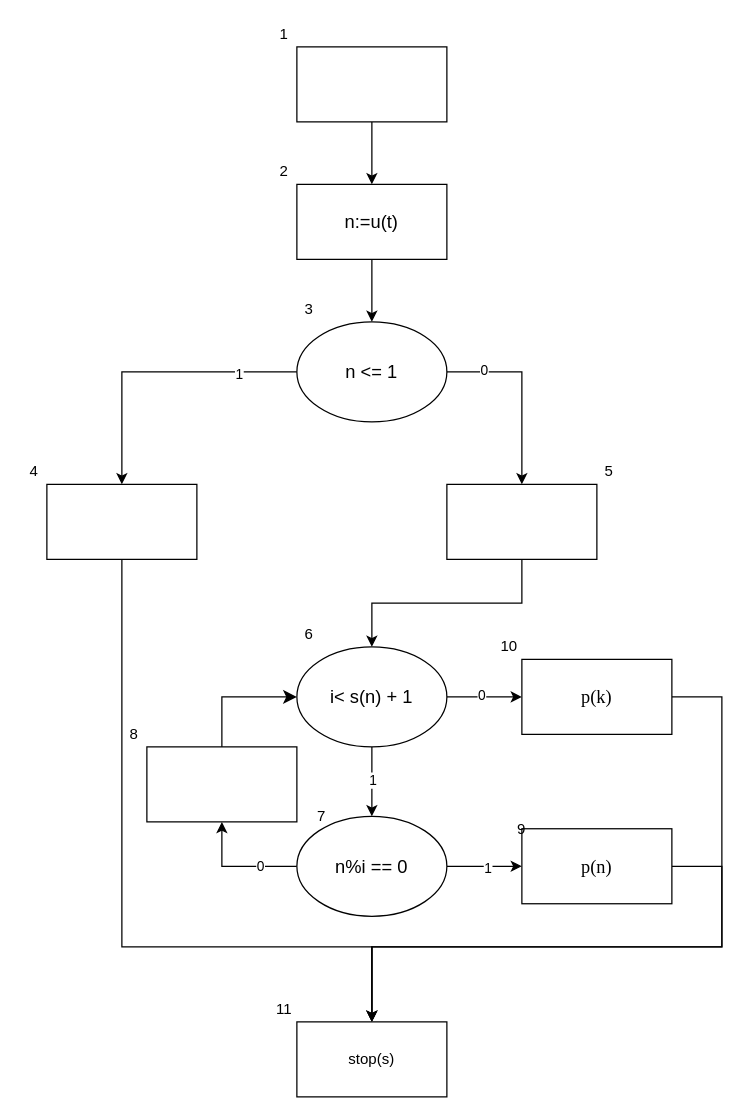
This 754x1119 diagram has some shape labels left out. The shapes that lost their labels are listed below. From the top down, each one's box as (x1, y1, x2, y2) in pixels, then its label:
(296, 46, 447, 122): start(s)
(46, 483, 197, 559): p(m)
(446, 483, 597, 559): i := 2
(146, 746, 297, 822): i += 1
